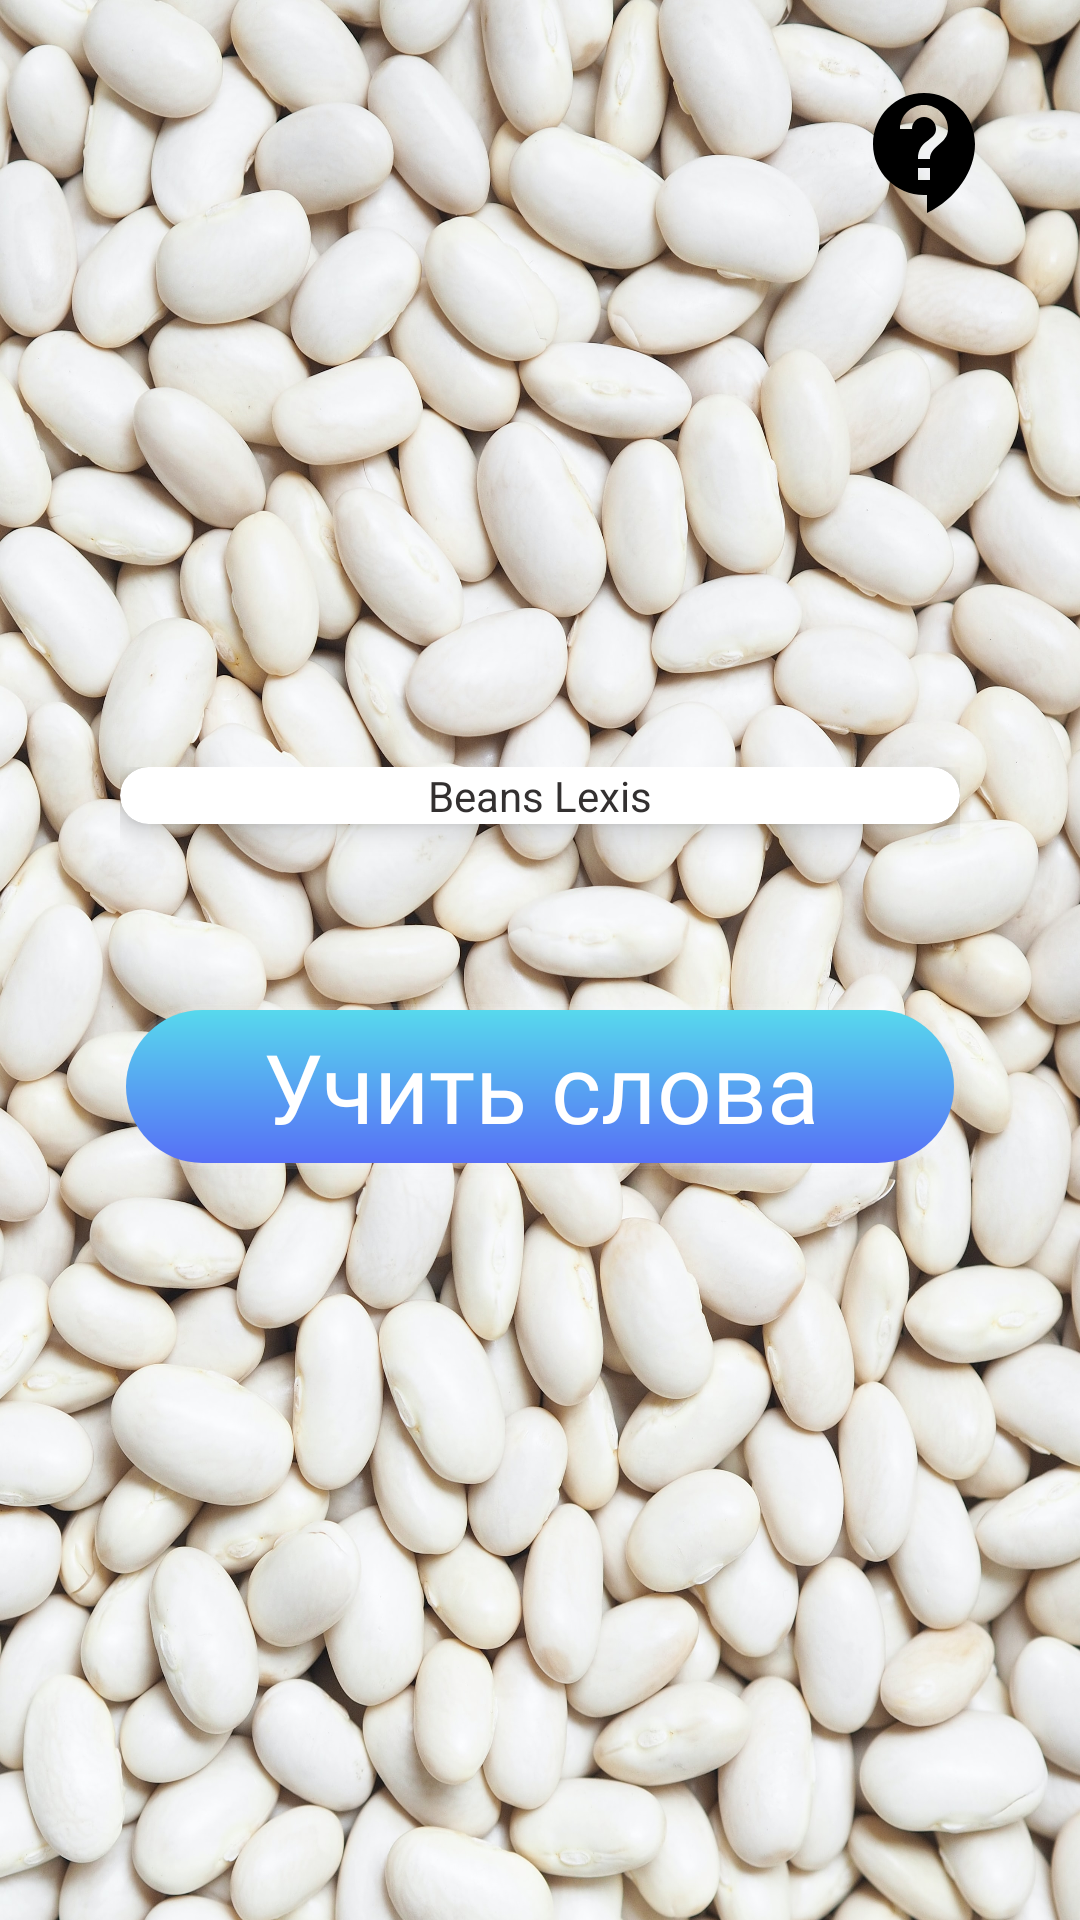

Icons on this 1080px×1920px Android screen, each with the point to tap as (x,y):
contact support: (927,153)
